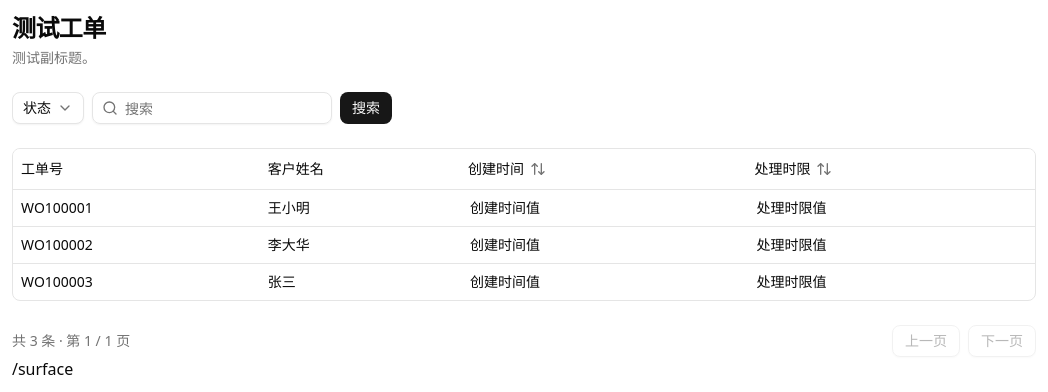
Test: 三态骨架 › 点行进入处理态：全宽表退场，窄列 + 详情区就位，副标题让位
The image size is (1048, 392).
Click the link "WO100002": click(57, 244) [21,234,93,254]
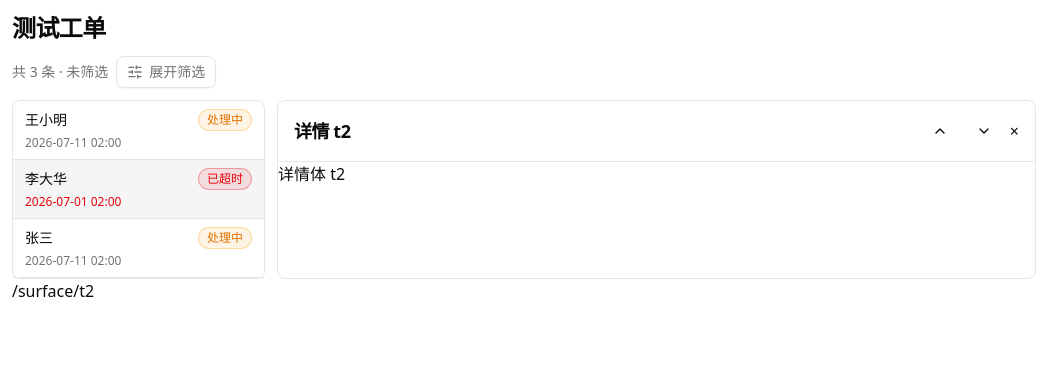
Result: the element named "工单详情" shows "详情 t2" at [294,119,350,143]
Result: the table is gone
Result: the navigation bar named "工单窄列" is shown at [13,101,264,278]
